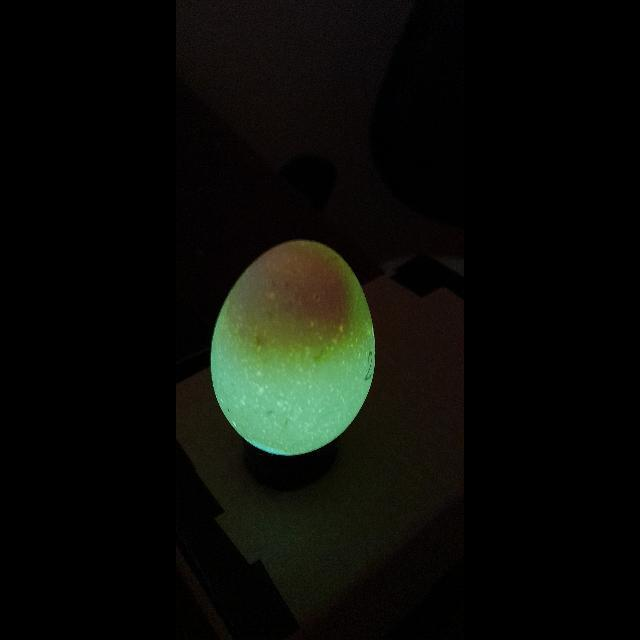Fertile: (208, 226, 376, 458)
